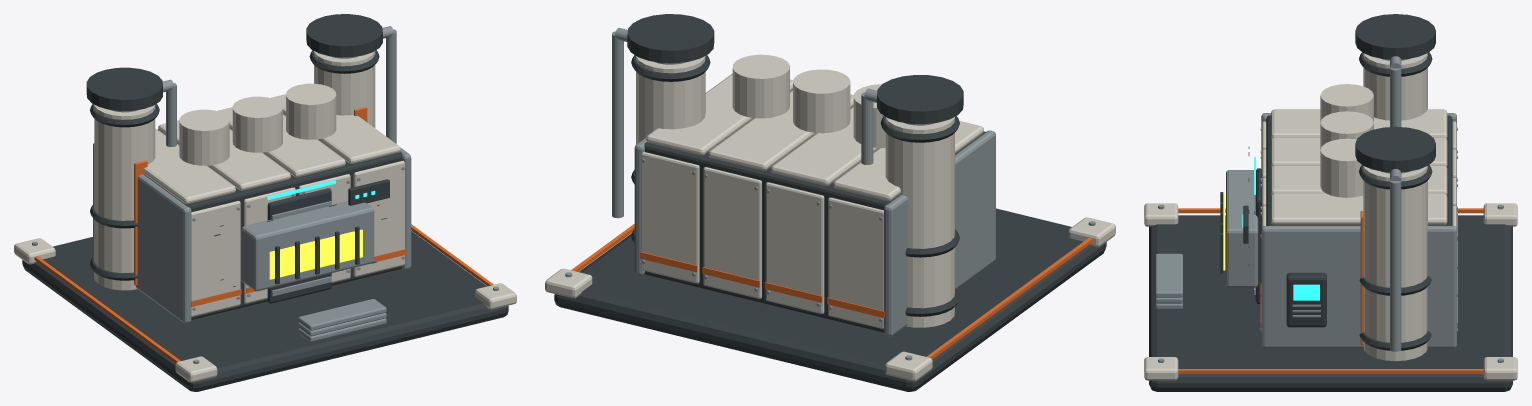
The model's file is SM_CeramicsKiln_Body.001.fbx.
The picture shows the model from 3 angles, left to right: view 1: azimuth 30°, elevation 25°; view 2: azimuth 150°, elevation 25°; view 3: azimuth 270°, elevation 25°; orthographic projection. The views are drawn at different scales.
Parts seen in each view (by area): view 1: SM_CeramicsKiln_Body.001; view 2: SM_CeramicsKiln_Body.001; view 3: SM_CeramicsKiln_Body.001.
Boxes of the visible parts, <box> form: SM_CeramicsKiln_Body.001: <box>14,14,516,391</box>; SM_CeramicsKiln_Body.001: <box>545,14,1115,391</box>; SM_CeramicsKiln_Body.001: <box>1144,14,1517,391</box>.
Size of the model in its own units: 492 by 462 by 308.
